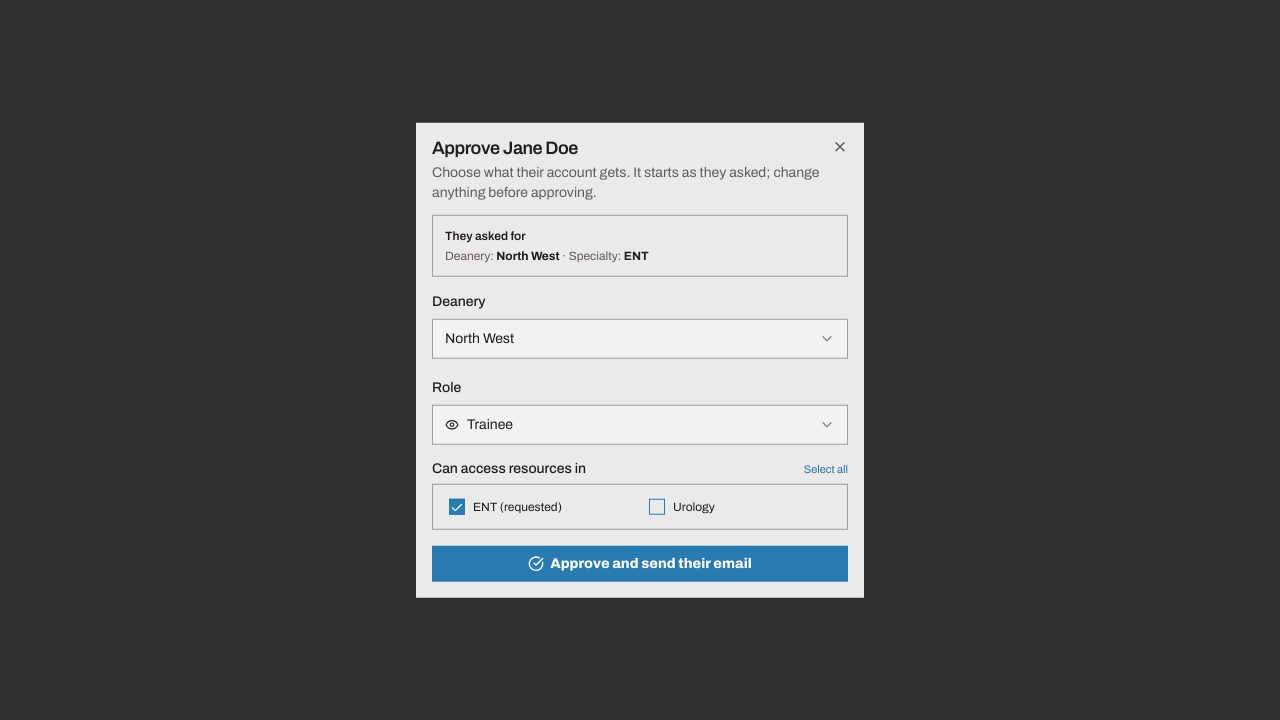
ApproveRequestDialog › approves with the specialties the admin changes to
Later steps or results of the test are not shown.
Click the checkbox named "Urology" next to "Urology": x=657, y=506 649,498 -> 665,514
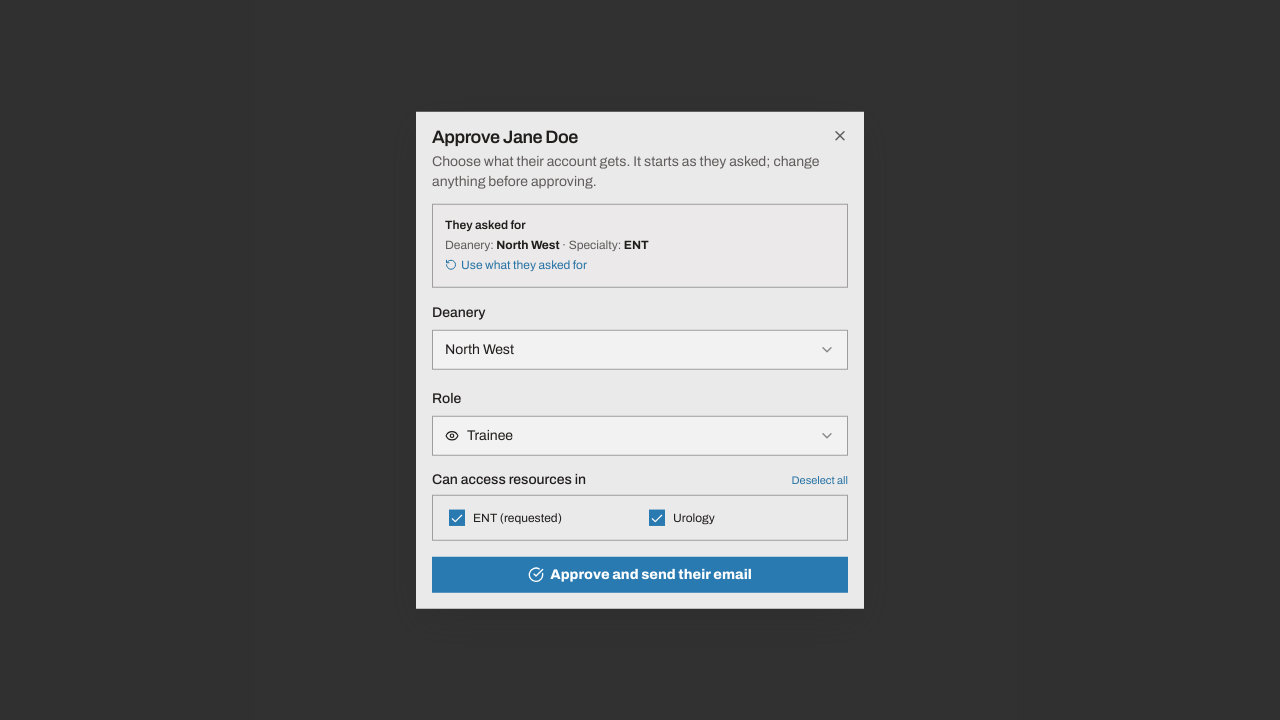
Check: the button "Use what they asked for" is shown, box 445,257 -> 587,273
